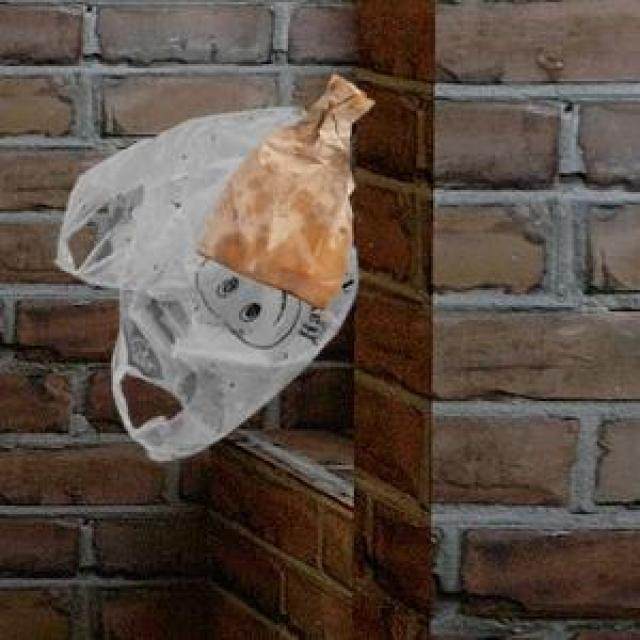paper: (192, 70, 369, 309)
